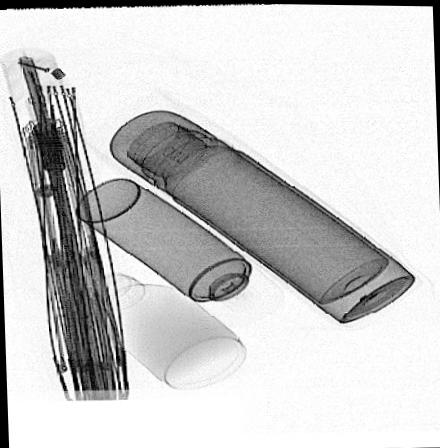Sprayer: (74, 174, 287, 328)
